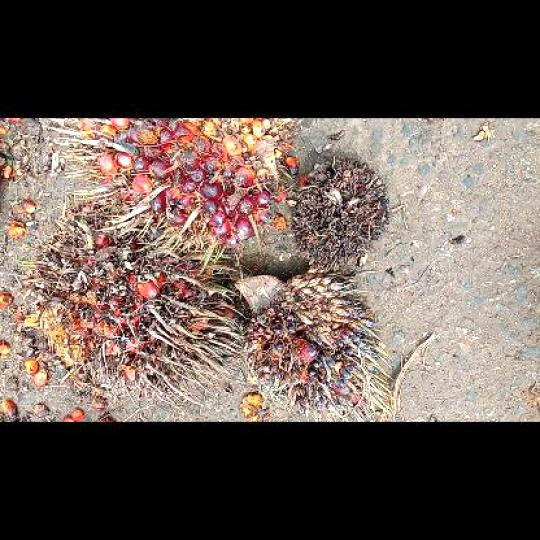masak: (67, 117, 286, 254)
terlalu masak: (24, 200, 243, 389)
